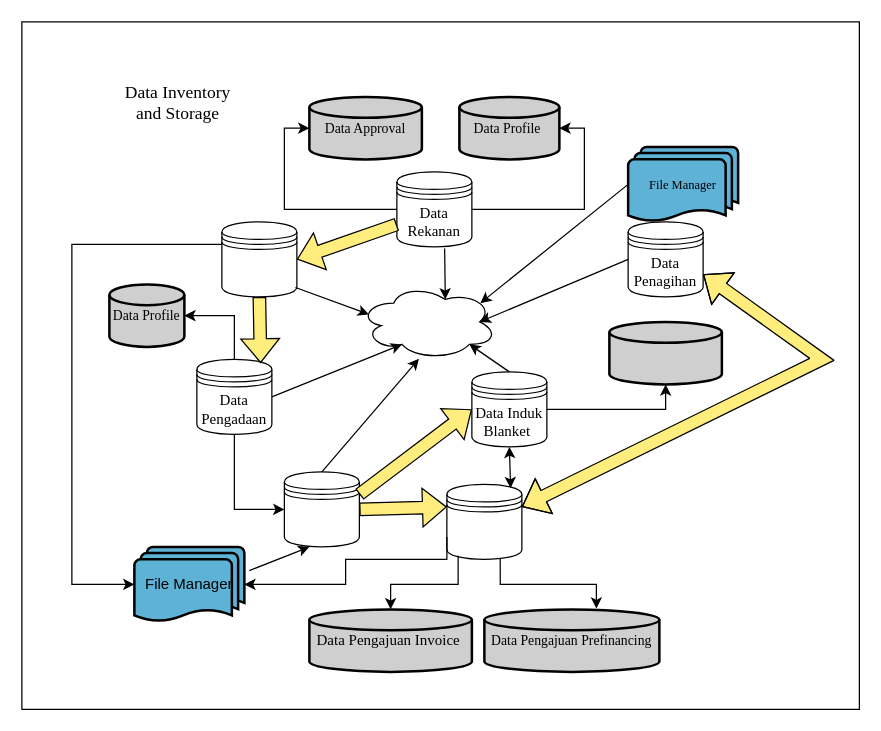
Image size: 881x731. Some labels were removed from this diagram. Here are the shapes that lost their labels. From the top down, the centre of each, then its label:
At point (259, 259): "Data Verifikasi".
At point (427, 321): "Cloud System".
At point (665, 352): "Data Blanket".
At point (321, 509): "Data Negosiasi".
At point (484, 521): "Data Kontrak".
